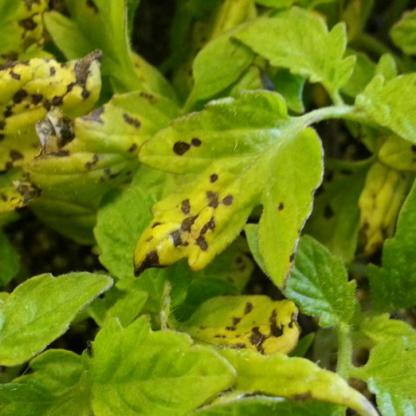tomato leaf: (224, 15, 372, 88)
tomato leaf bacterial spot: (131, 88, 339, 285), (163, 289, 316, 359)
